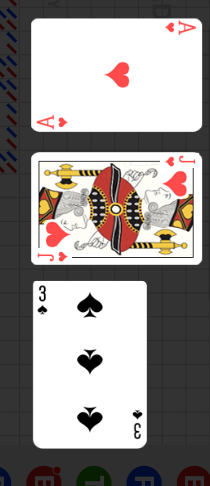3S: (130, 407, 144, 441), (36, 285, 50, 318)
AH: (35, 113, 70, 129)
